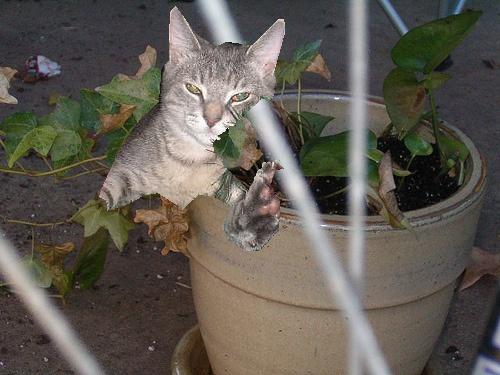tampered: (100, 7, 285, 251)
